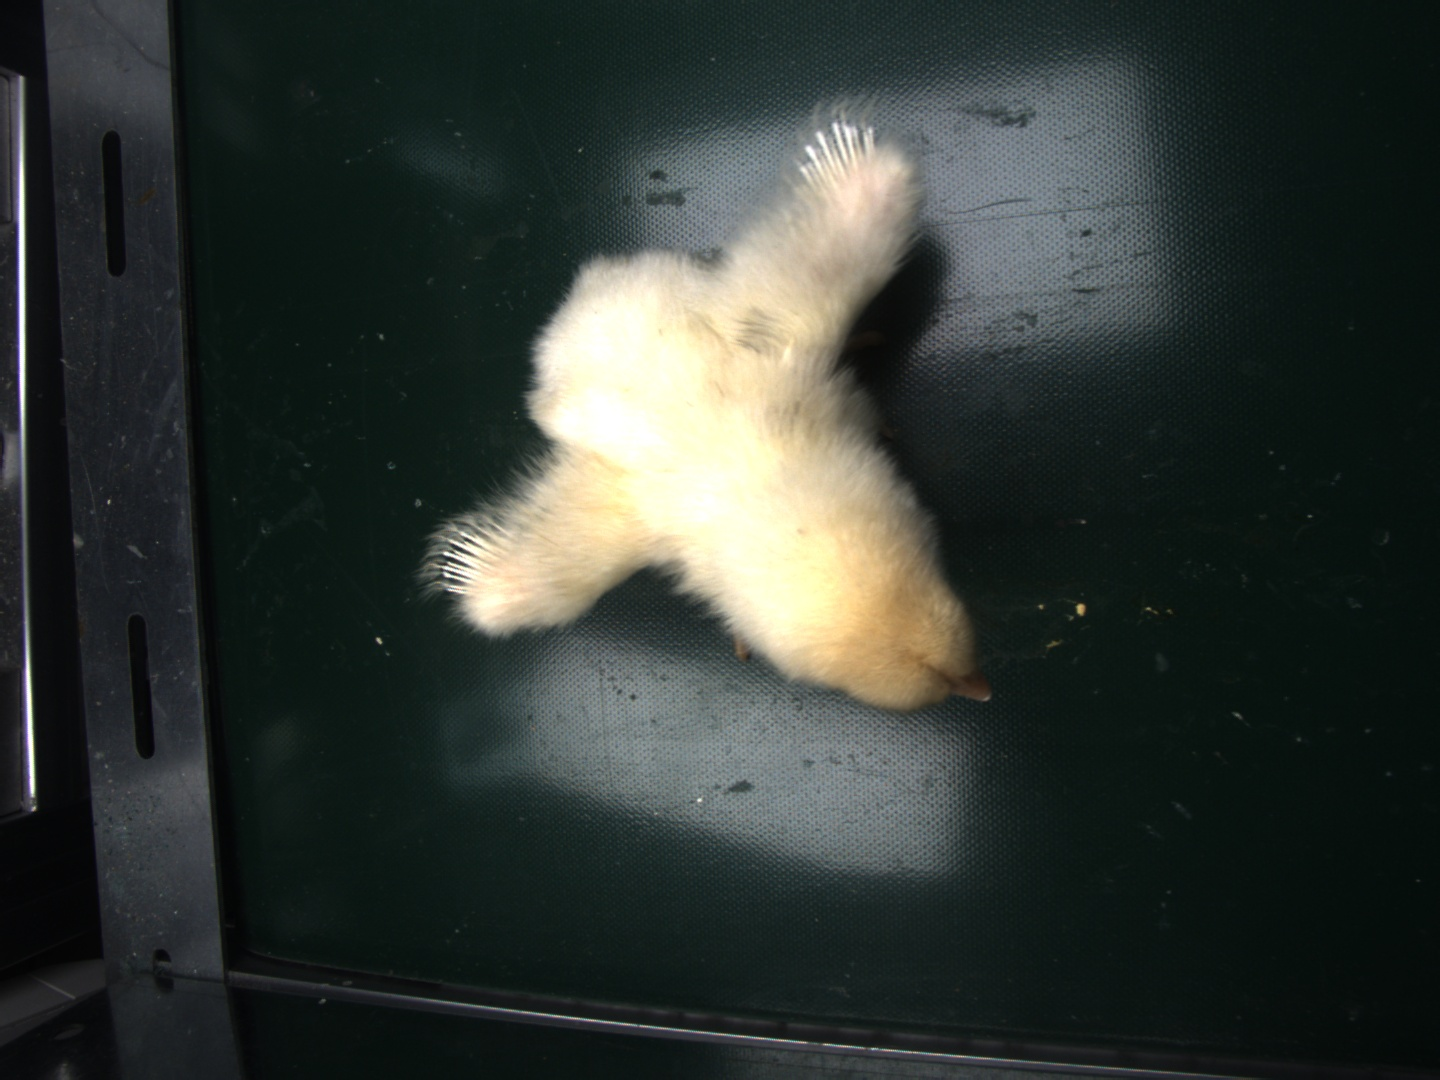male: (797, 118, 874, 191), (442, 518, 509, 594)
